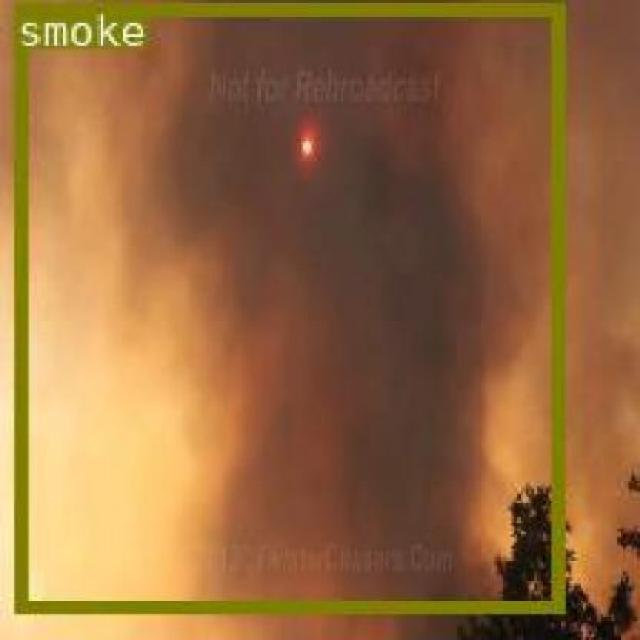smoke: (13, 2, 561, 612)
